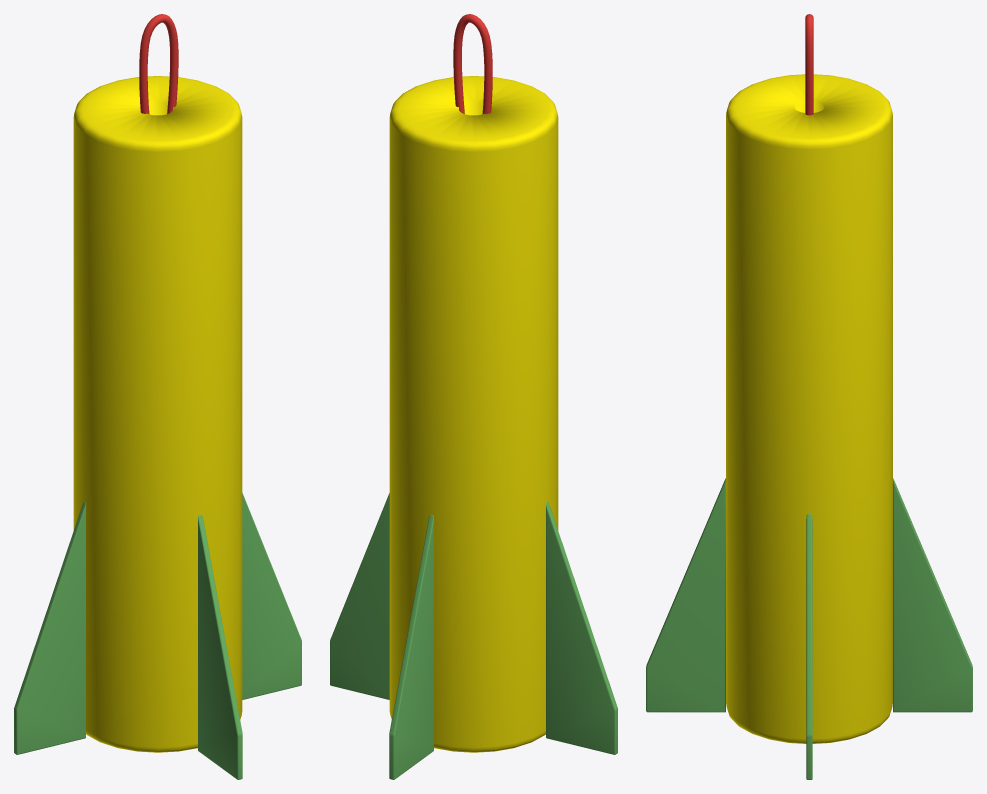
Rendered from Prize_FoamRocket.FBX.
The picture shows the model from 3 angles, left to right: view 1: azimuth 30°, elevation 25°; view 2: azimuth 150°, elevation 25°; view 3: azimuth 270°, elevation 25°; orthographic projection.
Parts seen in each view (by area): view 1: BaytekMall_FoamRocket; view 2: BaytekMall_FoamRocket; view 3: BaytekMall_FoamRocket.
Boxes of the visible parts, left/top/right/bottom form: BaytekMall_FoamRocket: left=14, top=14, right=301, bottom=779; BaytekMall_FoamRocket: left=330, top=14, right=617, bottom=779; BaytekMall_FoamRocket: left=646, top=14, right=972, bottom=779.
Bounding box in the file's own units: 12.53 × 29.5 × 12.53.
